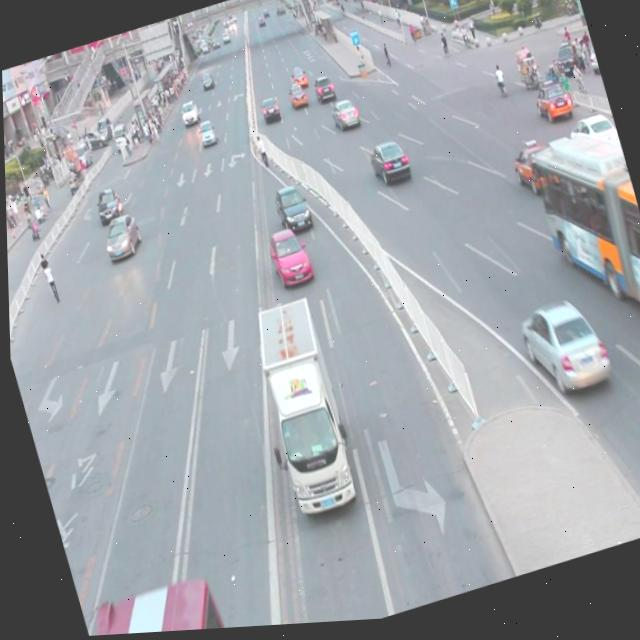bus: (239, 295, 358, 521)
car: (512, 296, 609, 408), (263, 227, 312, 294), (506, 144, 561, 203), (564, 114, 620, 168), (365, 140, 411, 193), (269, 183, 311, 239), (97, 212, 143, 263), (529, 84, 572, 132), (90, 184, 124, 227)
van: (524, 132, 640, 361), (76, 569, 233, 637)
